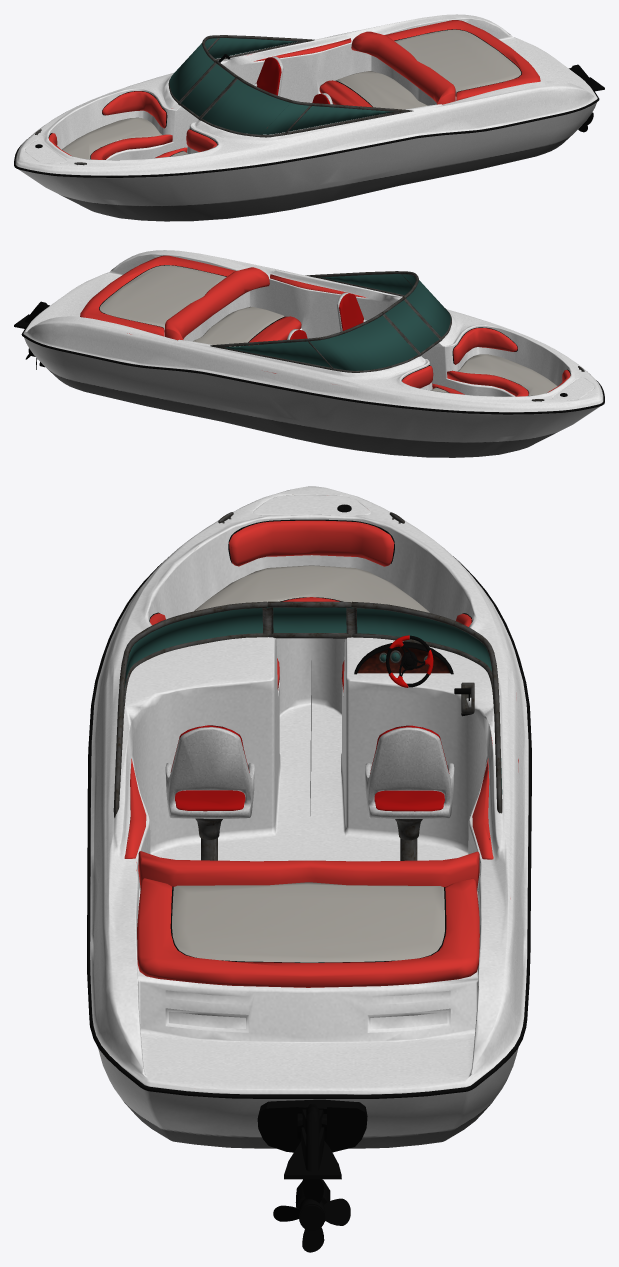
Rendered from SmallBoat.fbx.
The picture shows the model from 3 angles, top to bottom: view 1: azimuth 30°, elevation 25°; view 2: azimuth 150°, elevation 25°; view 3: azimuth 270°, elevation 25°; orthographic projection. The views are drawn at different scales.
Parts seen in each view (by area): view 1: Boat, Ditail, Engine; view 2: Boat, Ditail, Engine; view 3: Boat, Ditail, Engine, Propela, Stearing.
Part boxes in pixels (x1,y1,x2,y2): Boat: [15, 14, 597, 221]; Ditail: [14, 29, 599, 177]; Engine: [569, 64, 604, 91]; Boat: [23, 250, 603, 457]; Ditail: [21, 265, 604, 414]; Engine: [14, 301, 49, 367]; Boat: [90, 486, 528, 1148]; Ditail: [87, 504, 531, 1098]; Engine: [257, 1099, 367, 1221]; Propela: [273, 1179, 350, 1252]; Stearing: [386, 635, 433, 687].
Size of the model in its own units: 545 by 135 by 181.
Materials: 5 (2 with a texture image).
